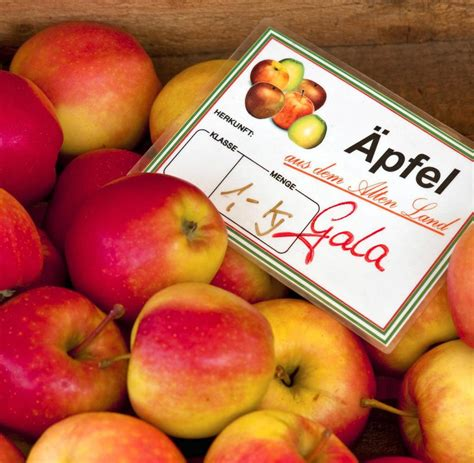apple: (114, 282, 291, 443), (1, 283, 132, 435)
